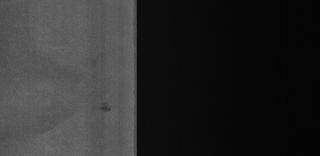oil spot: (97, 102, 113, 116)
silk spot: (1, 8, 93, 126)
